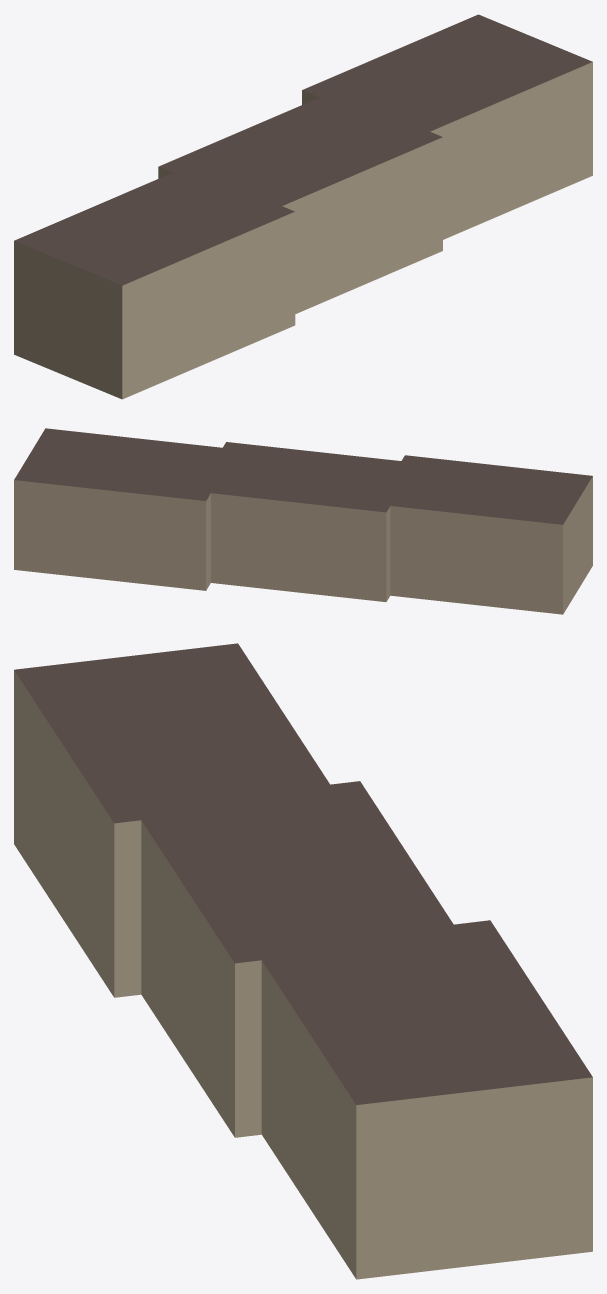
3 renders of one model, top to bottom at view 1: azimuth 30°, elevation 25°; view 2: azimuth 150°, elevation 25°; view 3: azimuth 270°, elevation 25°, orthographic. The views are drawn at different scales.
Parts seen in each view (by area): view 1: HP-w299011320; view 2: HP-w299011320; view 3: HP-w299011320.
Part boxes in pixels (x1,y1,x2,y2): HP-w299011320: (14, 14, 592, 399); HP-w299011320: (14, 428, 592, 614); HP-w299011320: (14, 643, 592, 1279).
Size of the model in its own units: 51.1 by 9 by 27.08.
